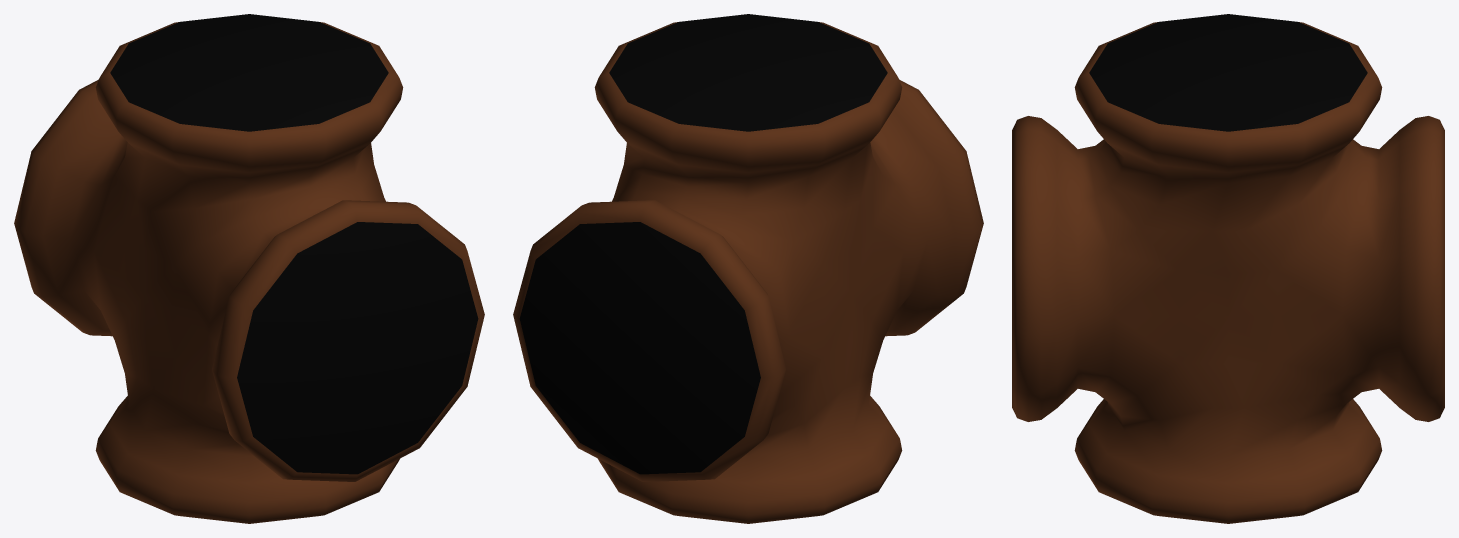
The model's file is Pipe_Plus_1m.fbx.
3 views of the same model, side by side, from view 1: azimuth 30°, elevation 25°; view 2: azimuth 150°, elevation 25°; view 3: azimuth 270°, elevation 25° (orthographic).
Visible parts, largest first — view 1: Pipe_Plus_1m; view 2: Pipe_Plus_1m; view 3: Pipe_Plus_1m.
Boxes of the visible parts, x1,y1,x2,y2 form: Pipe_Plus_1m: (14, 14, 484, 523); Pipe_Plus_1m: (513, 14, 983, 523); Pipe_Plus_1m: (1012, 14, 1444, 523).
Bounding box in the file's own units: 71.06 × 100 × 100.
